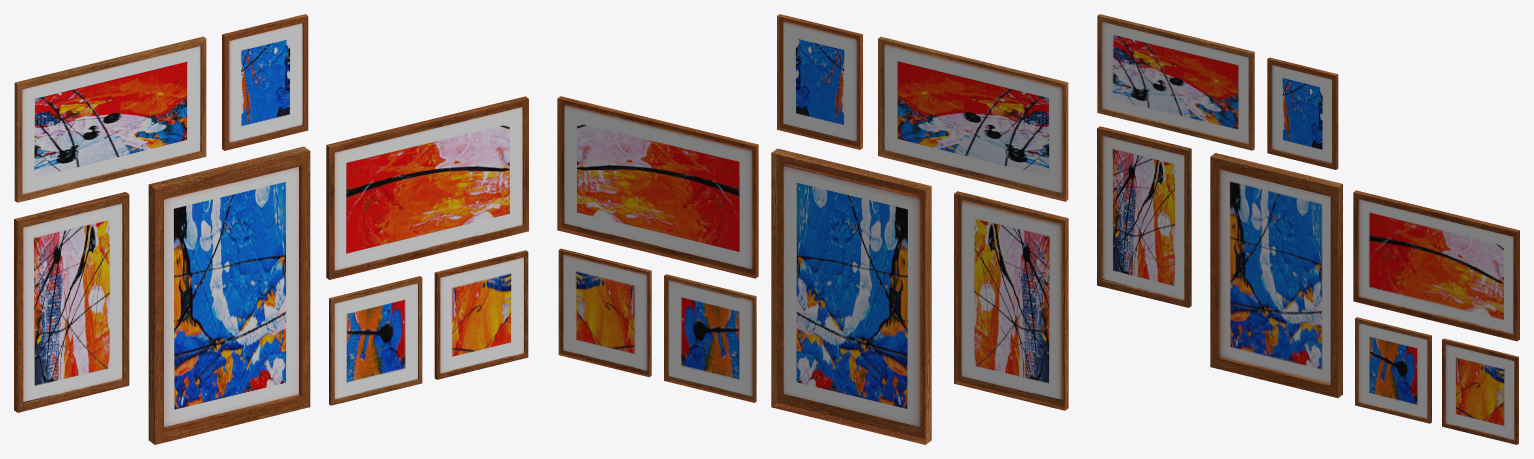
Rendered from Arresting Abstract Collections.FBX.
3 renders of one model, left to right at view 1: azimuth 30°, elevation 25°; view 2: azimuth 150°, elevation 25°; view 3: azimuth 330°, elevation 25°, orthographic. The views are drawn at different scales.
Visible parts, largest first — view 1: Arresting Abstract Collection; view 2: Arresting Abstract Collection; view 3: Arresting Abstract Collection.
Boxes of the visible parts, x1,y1,x2,y2 form: Arresting Abstract Collection: (14,14,528,444); Arresting Abstract Collection: (557,14,1068,444); Arresting Abstract Collection: (1097,14,1519,444).
Size of the model in its own units: 2.01 by 1.49 by 0.0443.
1 material, 1 textured.
